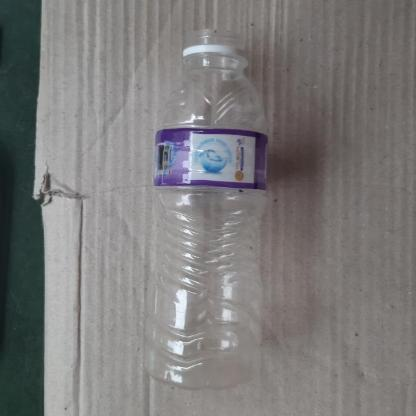Plastic Bottle: (115, 0, 284, 416)
